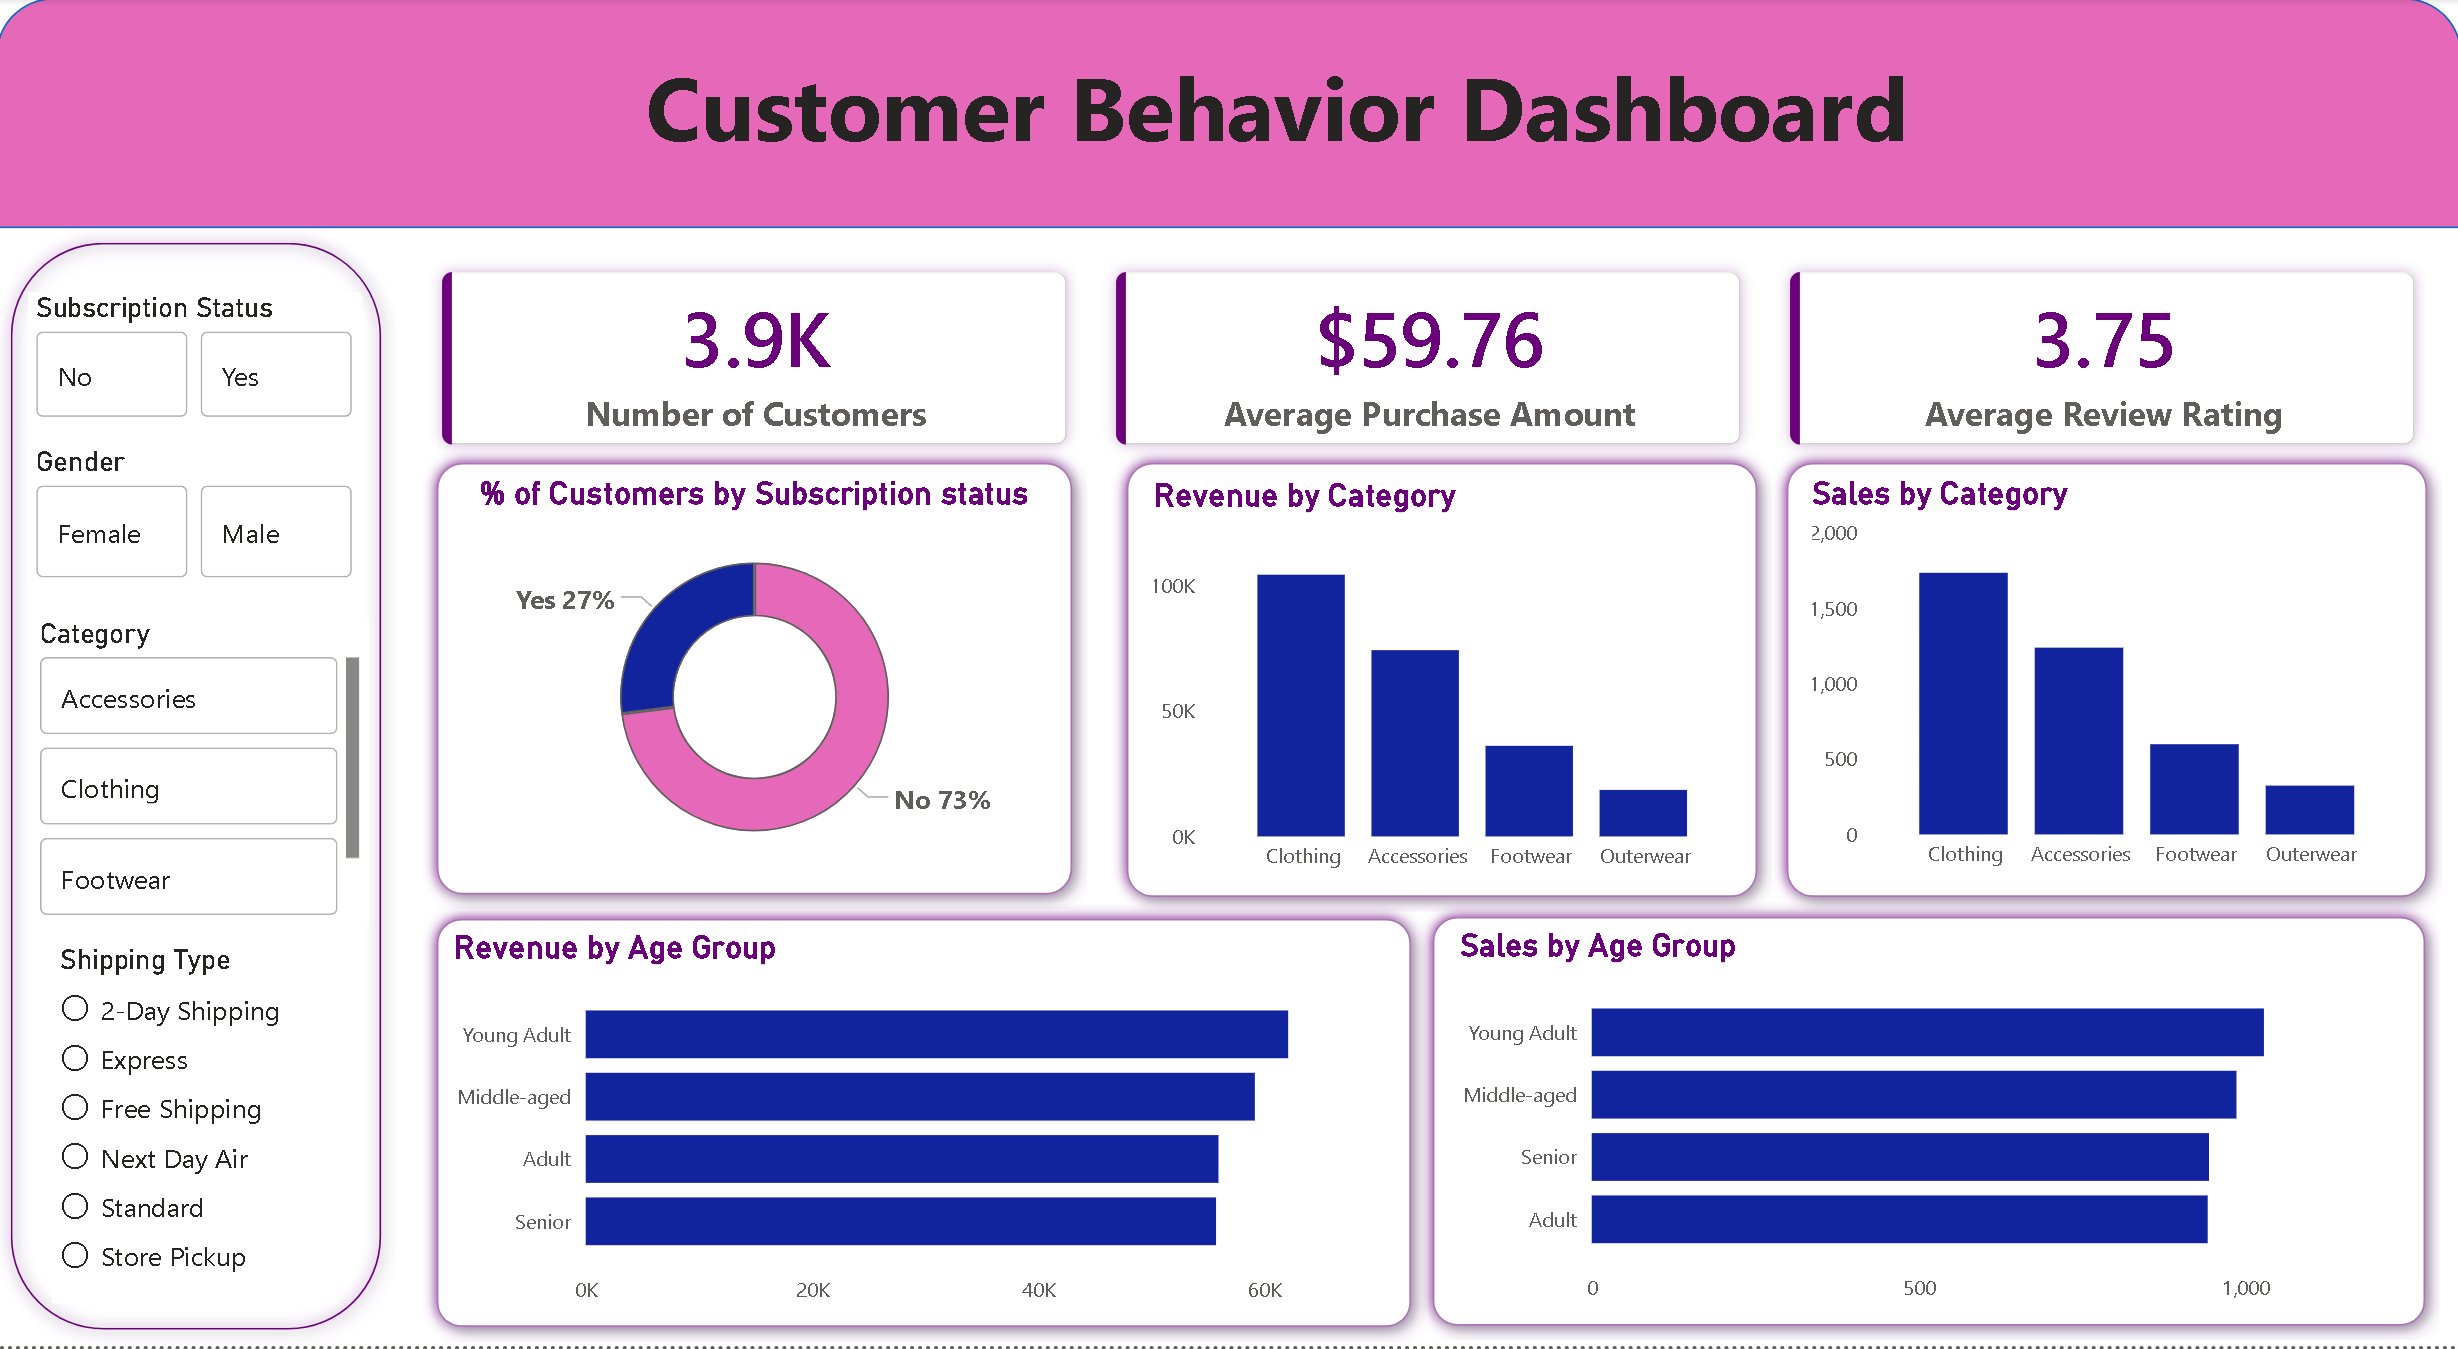

This screenshot's page, from the dashboard's own definition file:
{"tool":"powerbi","page":{"name":"Page 1","canvas":[1500,820],"ordinal":0},"visuals":[{"type":"cardVisual","fields":{"Data":["customer_behavior customer.Number of Customers","customer_behavior customer.Average Purchase Amount","customer_behavior customer.Avera Review Rating"]},"box":[243.3,138.3,1256.7,161.7],"z":0},{"type":"shape","box":[0,0,1500,140],"z":1000},{"type":"textbox","box":[279.1,23.9,1001.5,88.1],"z":2000},{"type":"shape","box":[259.7,273.1,404.5,280.6],"z":3000},{"type":"donutChart","title":"% of Customers by Subscription status","fields":{"Category":["customer_behavior customer.subscription_status"],"Y":["CountNonNull(customer_behavior customer.customer_id)"]},"box":[279.1,289.6,365.7,249.3],"z":4000},{"type":"shape","box":[679.1,273.1,401.5,282.1],"z":5000},{"type":"shape","box":[1080.6,273.1,407.5,282.1],"z":6000},{"type":"clusteredColumnChart","title":"Revenue by Category","fields":{"Y":["Sum(customer_behavior customer.purchase_amount)"],"Category":["customer_behavior customer.category"]},"box":[700,291,364.2,249.3],"z":7000},{"type":"clusteredColumnChart","title":"Sales by Category","fields":{"Y":["CountNonNull(customer_behavior customer.purchase_amount)"],"Category":["customer_behavior customer.category"]},"box":[1100,289.6,370.1,249.3],"z":8000},{"type":"shape","box":[0,140.3,243.3,679.1],"z":9000},{"type":"advancedSlicerVisual","fields":{"Values":["customer_behavior customer.subscription_status"]},"box":[20,178.6,202.9,81.4],"z":10000},{"type":"advancedSlicerVisual","fields":{"Values":["customer_behavior customer.gender"]},"box":[20,272.9,202.9,85.7],"z":11000},{"type":"advancedSlicerVisual","fields":{"Values":["customer_behavior customer.category"]},"box":[21.4,377.1,204.3,187.1],"z":12000},{"type":"listSlicer","fields":{"Values":["customer_behavior customer.shipping_type"]},"box":[34.3,575.7,174.3,218.6],"z":13000},{"type":"shape","box":[259.3,550.7,610.6,266.3],"z":14000},{"type":"shape","box":[865,550,621.7,266.7],"z":15000},{"type":"clusteredBarChart","title":"Sales by Age Group","fields":{"Category":["customer_behavior customer.age_group"],"Y":["CountNonNull(customer_behavior customer.customer_id)"]},"box":[885.2,564.6,581.3,238.4],"z":16000},{"type":"clusteredBarChart","title":"Revenue by Age Group","fields":{"Y":["Sum(customer_behavior customer.purchase_amount)"],"Category":["customer_behavior customer.age_group"]},"box":[273.2,566,581.3,238.4],"z":17000}]}

Visuals, with their boxes in screenshot pixels (x1, y1, x2, y2), scaled from the page's 1500x820 canvas onto the 2458x1349 screenshot:
cardVisual - customer_behavior customer.Number of Customers x customer_behavior customer.Average Purchase Amount: [left=399, top=228, right=2457, bottom=494]
shape: [left=0, top=0, right=2457, bottom=230]
textbox: [left=457, top=39, right=2098, bottom=184]
shape: [left=426, top=449, right=1088, bottom=911]
"% of Customers by Subscription status" donutChart: [left=457, top=476, right=1057, bottom=887]
shape: [left=1113, top=449, right=1771, bottom=913]
shape: [left=1771, top=449, right=2438, bottom=913]
"Revenue by Category" clusteredColumnChart: [left=1147, top=479, right=1744, bottom=889]
"Sales by Category" clusteredColumnChart: [left=1803, top=476, right=2409, bottom=887]
shape: [left=0, top=231, right=399, bottom=1348]
advancedSlicerVisual - customer_behavior customer.subscription_status: [left=33, top=294, right=365, bottom=428]
advancedSlicerVisual - customer_behavior customer.gender: [left=33, top=449, right=365, bottom=590]
advancedSlicerVisual - customer_behavior customer.category: [left=35, top=620, right=370, bottom=928]
listSlicer - customer_behavior customer.shipping_type: [left=56, top=947, right=342, bottom=1307]
shape: [left=425, top=906, right=1425, bottom=1344]
shape: [left=1417, top=905, right=2436, bottom=1344]
"Sales by Age Group" clusteredBarChart: [left=1451, top=929, right=2403, bottom=1321]
"Revenue by Age Group" clusteredBarChart: [left=448, top=931, right=1400, bottom=1323]
